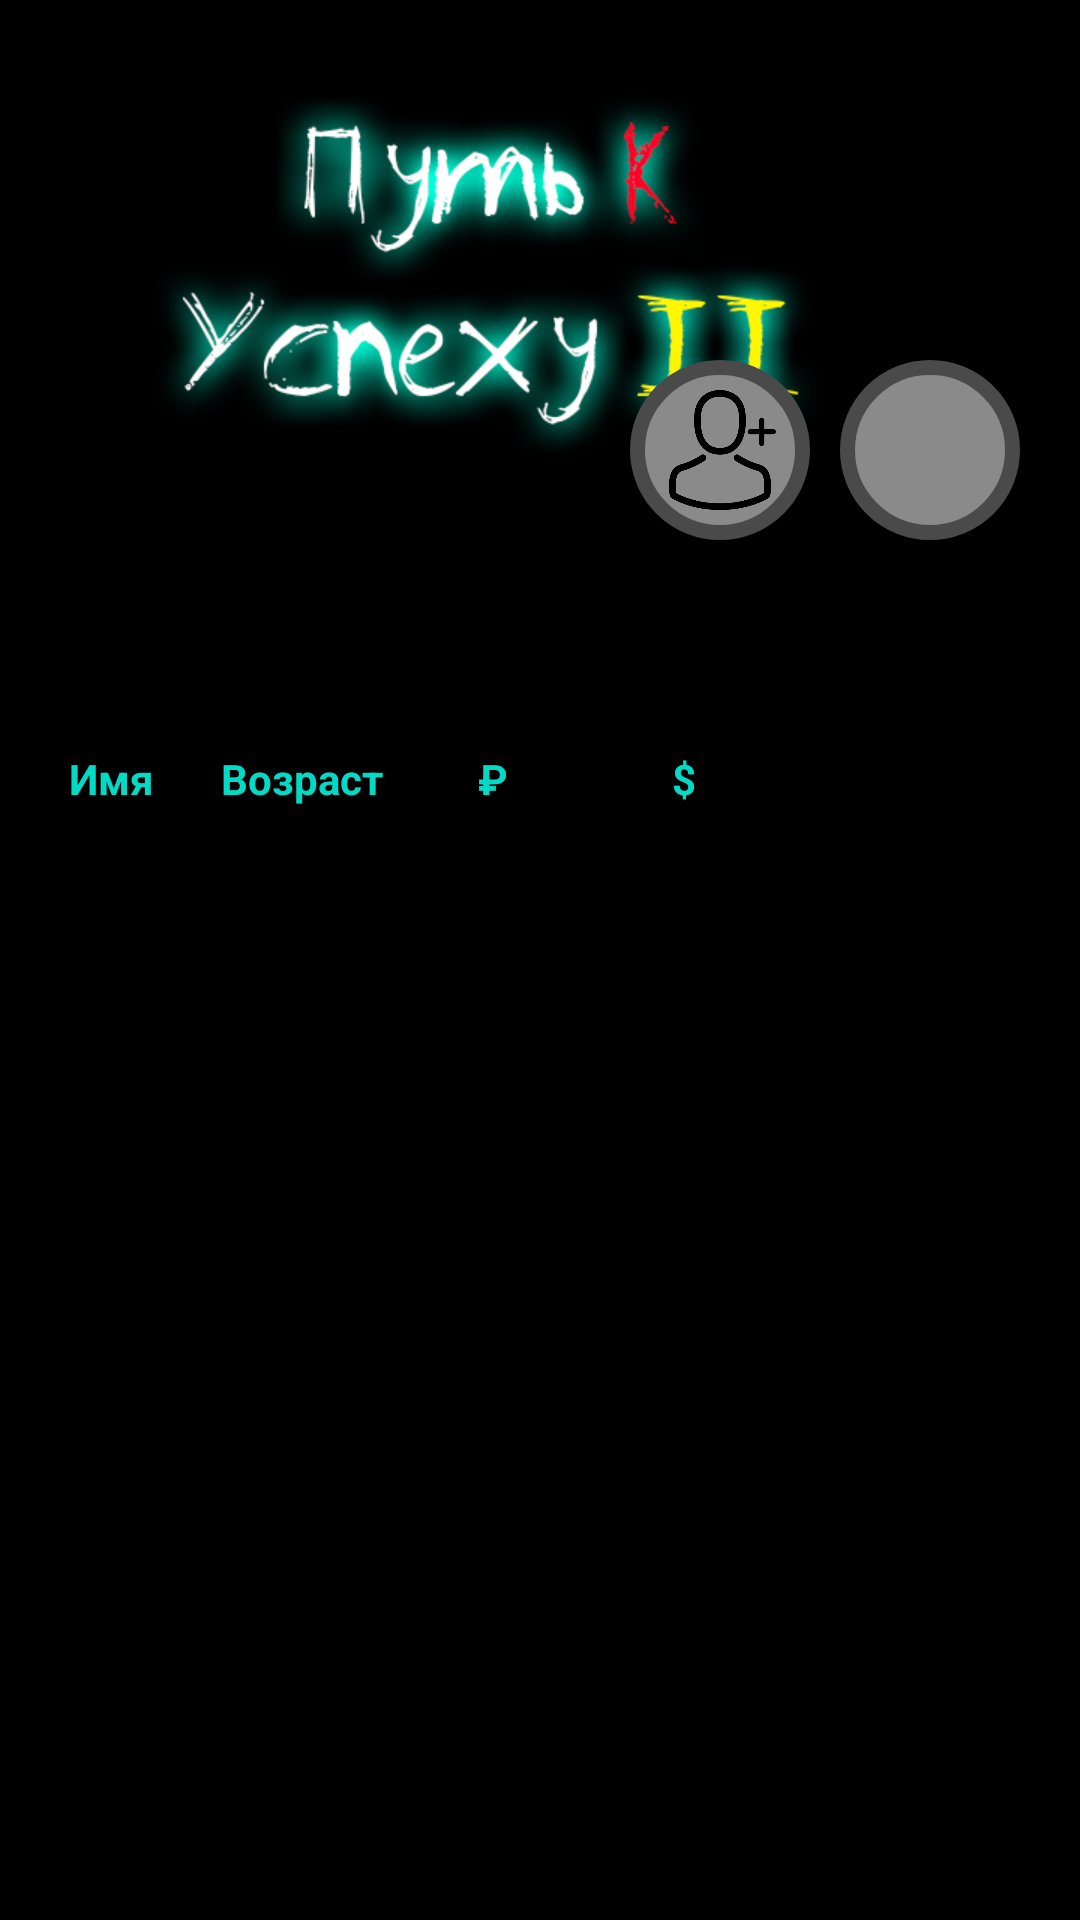

Locate icon controls on the screen. Image size 1080*1920, boxes as [left=x1, top=y1, right=x2, bottom=y2].
create character: [left=630, top=360, right=810, bottom=540]
